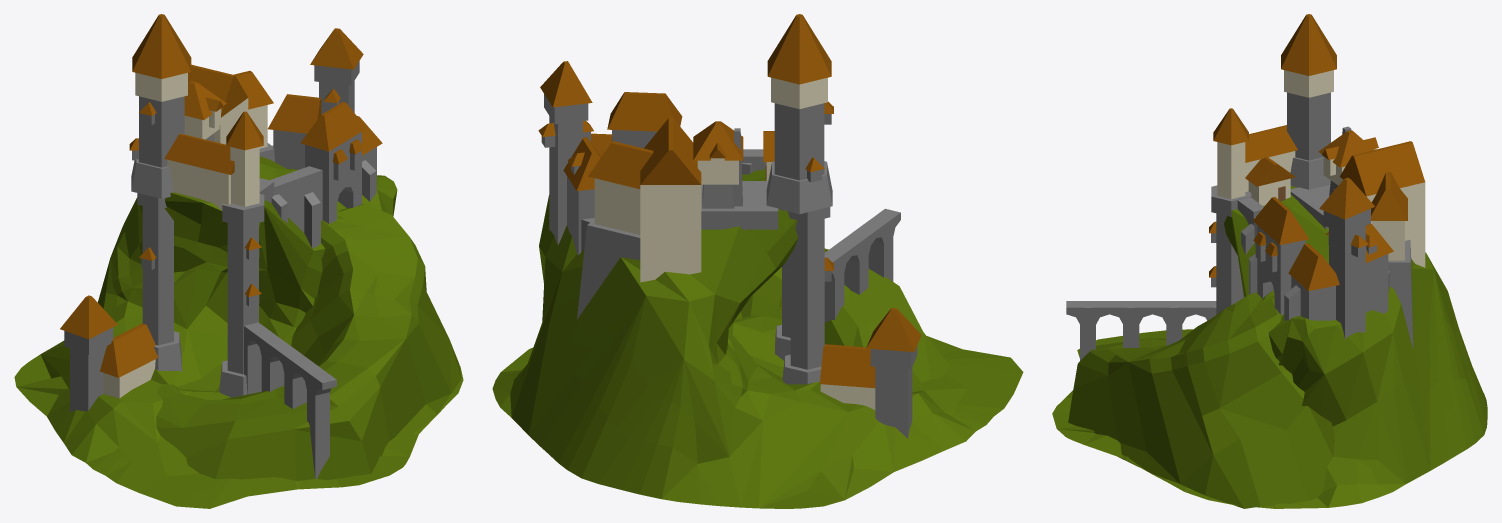
File: fantasty_castle_prototyping.glb
The picture shows the model from 3 angles, left to right: view 1: azimuth 30°, elevation 25°; view 2: azimuth 150°, elevation 25°; view 3: azimuth 270°, elevation 25°; orthographic projection. The views are drawn at different scales.
Parts seen in each view (by area): view 1: Plane001, Box319, Group001, Box326, Box320, Box335, Box324, Box338, Box336, Box337, Box332, Box333; view 2: Box319, Group001, Plane001, Box320, Box336, Box337, Box338, Box335; view 3: Plane001, Box319, Group001, Box326, Box320, Box336, Box337, Box338, Box335, Box333.
Boxes of the visible parts, x1,y1,x2,y2 form: Plane001: (156,204,461,480); Box319: (14,156,463,508); Group001: (60,14,382,411); Box326: (164,111,263,210); Box320: (300,102,366,223); Box335: (311,371,336,478); Box324: (270,166,322,232); Box338: (244,322,279,394); Box336: (288,355,325,437); Box337: (266,338,302,405); Box332: (304,192,320,248); Box333: (362,160,376,201); Box319: (492,169,1023,508); Group001: (540,14,921,438); Plane001: (735,248,949,387); Box320: (607,92,682,148); Box336: (849,218,888,290); Box337: (824,235,863,309); Box338: (824,254,839,322); Box335: (873,208,900,281); Plane001: (1068,292,1334,508); Box319: (1052,186,1487,508); Group001: (1211,14,1425,348); Box326: (1213,108,1297,205); Box320: (1253,197,1309,314); Box336: (1088,301,1131,352); Box337: (1131,301,1174,347); Box338: (1174,301,1216,342); Box335: (1066,301,1087,360); Box333: (1284,285,1300,320).
Bounding box in the file's own units: 53.48 × 53.65 × 54.23.
Materials: 1 (1 with a texture image).
